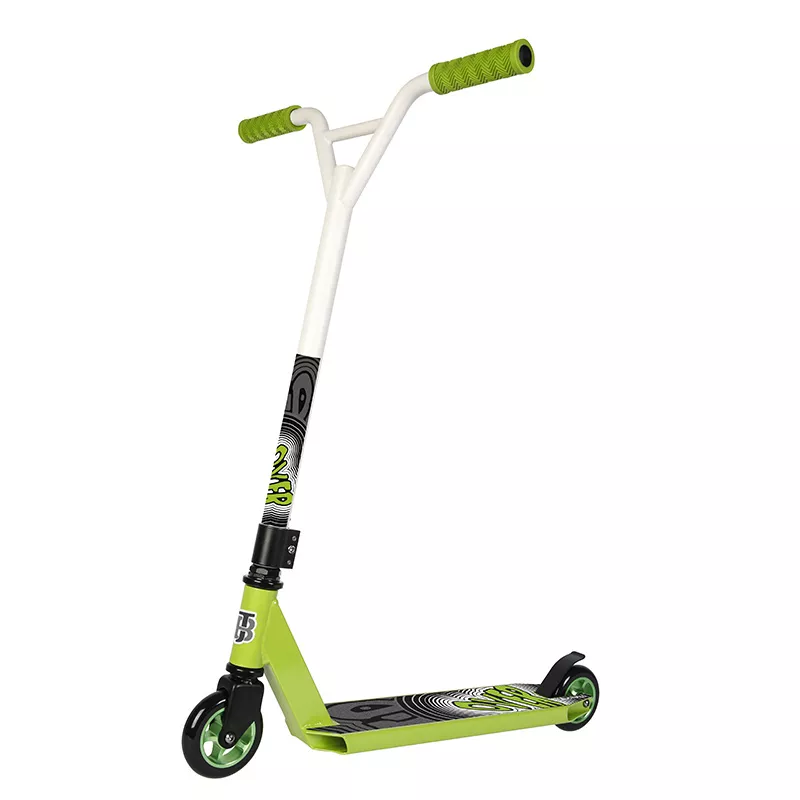scooter: (180, 40, 606, 784)
